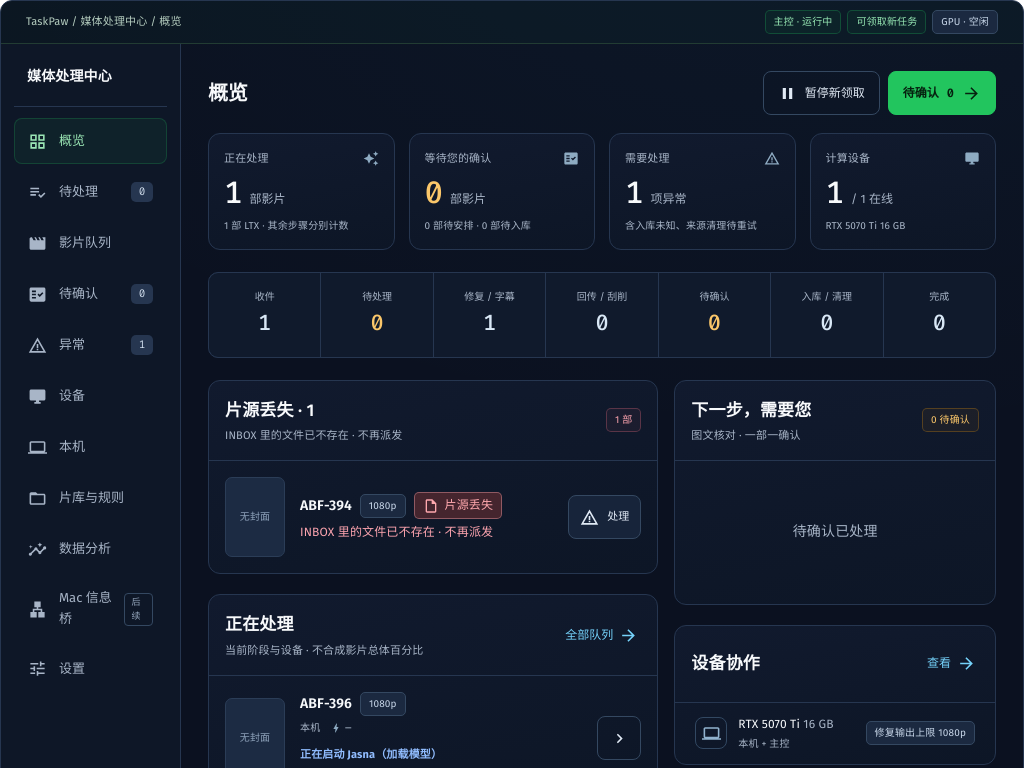
Test case: drawer: 片源丢失 › 重新检查 of a still missing source says so
Click the button with aria-label "处理 ABF-394".
click(605, 517)  # box 568,495 -> 641,539
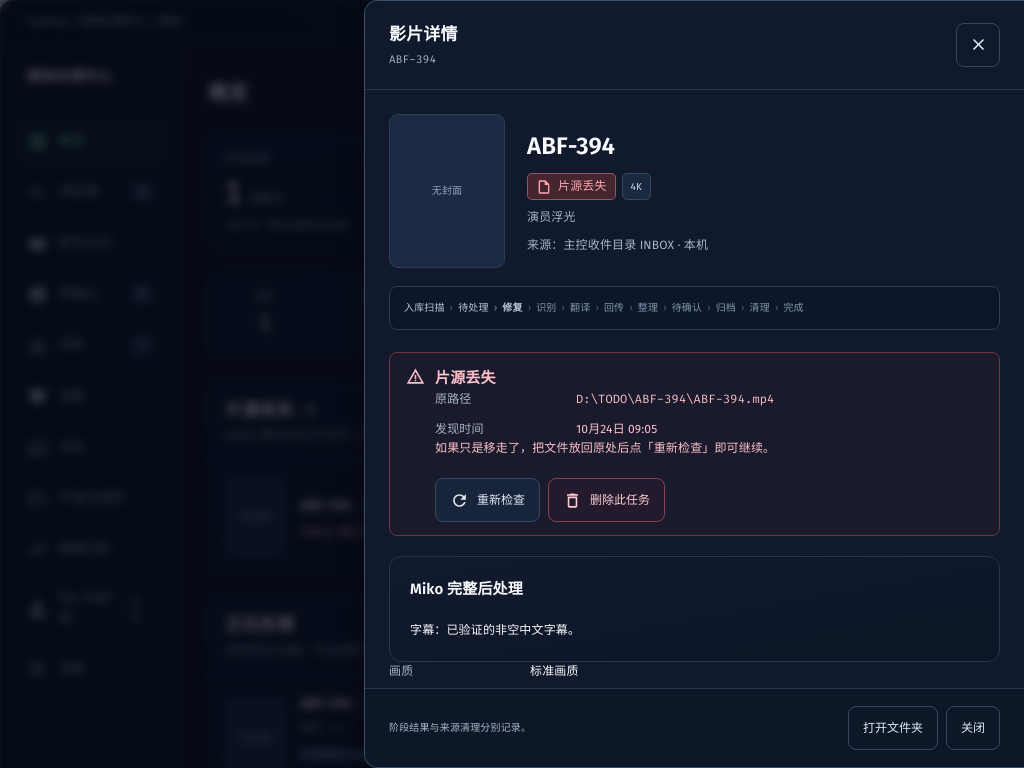
Click the button "重新检查".
click(488, 500)  # box 435,478 -> 540,522
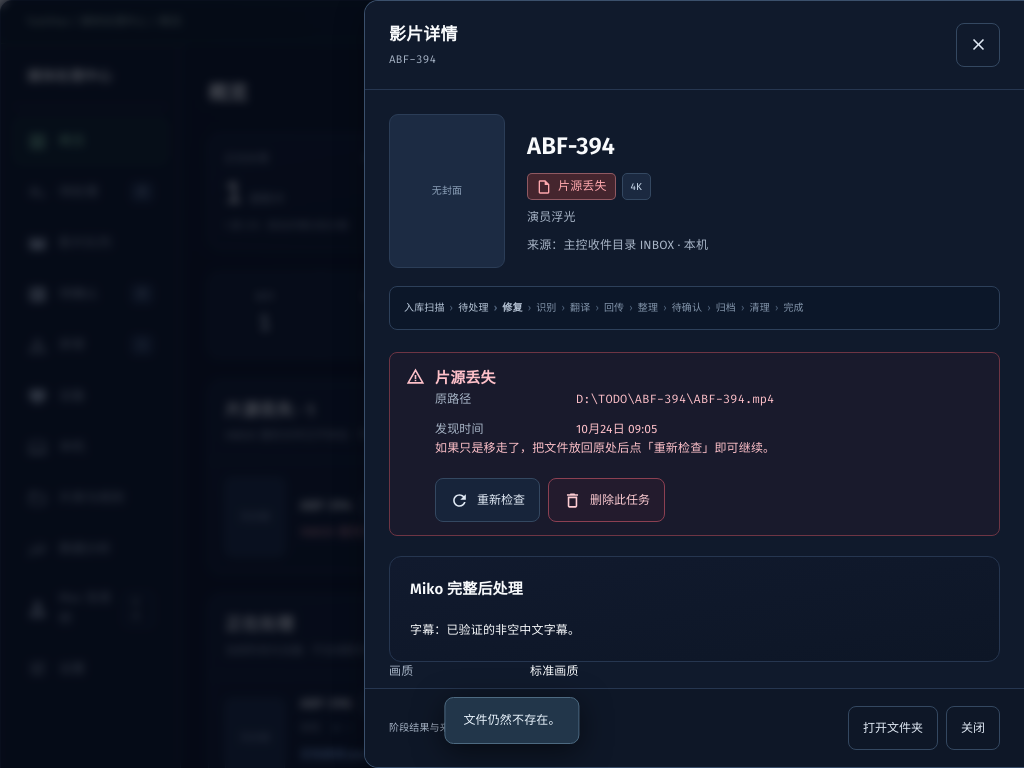
Expected: the text "文件仍然不存在。" is shown, 444,697 -> 580,744
